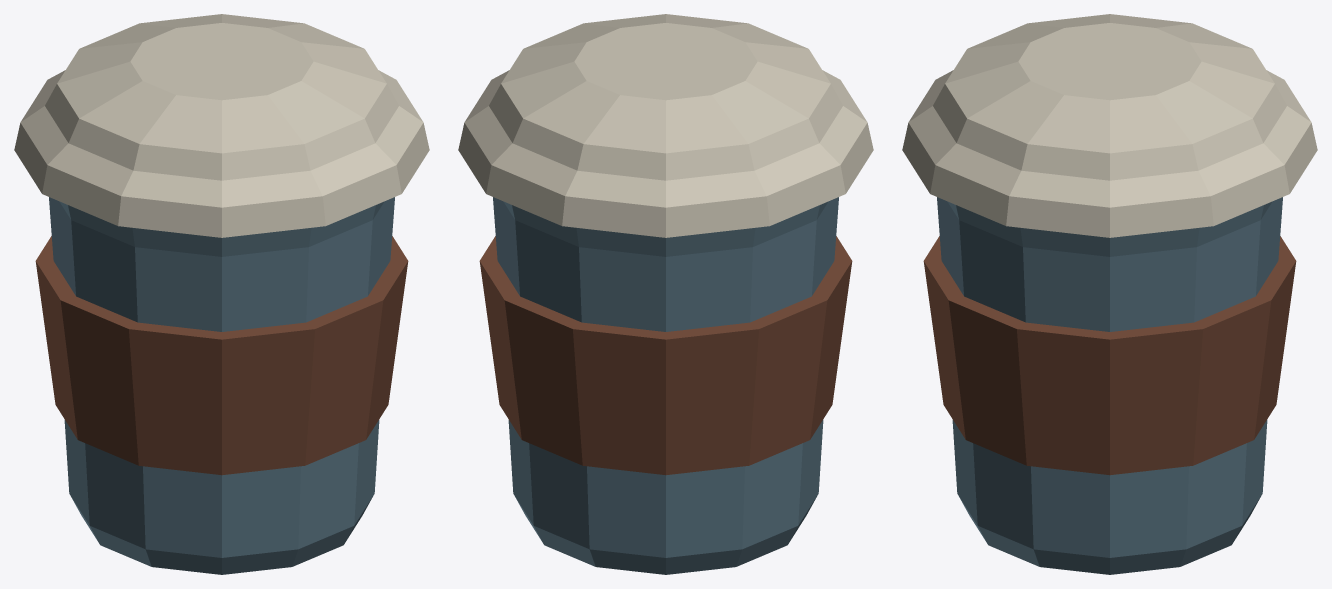
Rendered from coffee-cup-90be67.glb.
3 renders of one model, left to right at view 1: azimuth 30°, elevation 25°; view 2: azimuth 150°, elevation 25°; view 3: azimuth 270°, elevation 25°, orthographic.
Bounding box in the file's own units: 0.136 × 0.164 × 0.136.
